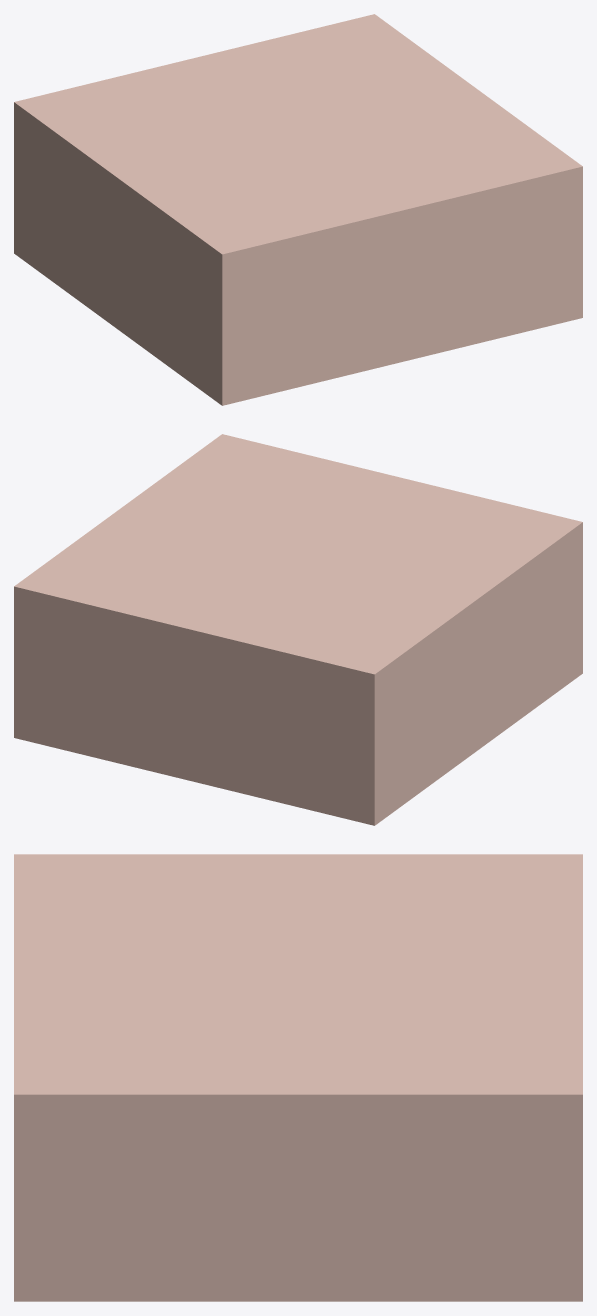
File: art-transformed.glb
3 views of the same model, one above another, from view 1: azimuth 30°, elevation 25°; view 2: azimuth 150°, elevation 25°; view 3: azimuth 270°, elevation 25° (orthographic). The views are drawn at different scales.
Parts seen in each view (by area): view 1: Cube; view 2: Cube; view 3: Cube.
Part boxes in pixels (x1,y1,x2,y2): Cube: (14, 14, 582, 405); Cube: (14, 434, 582, 825); Cube: (14, 854, 582, 1301).
Bounding box in the file's own units: 102 × 40.73 × 102.
